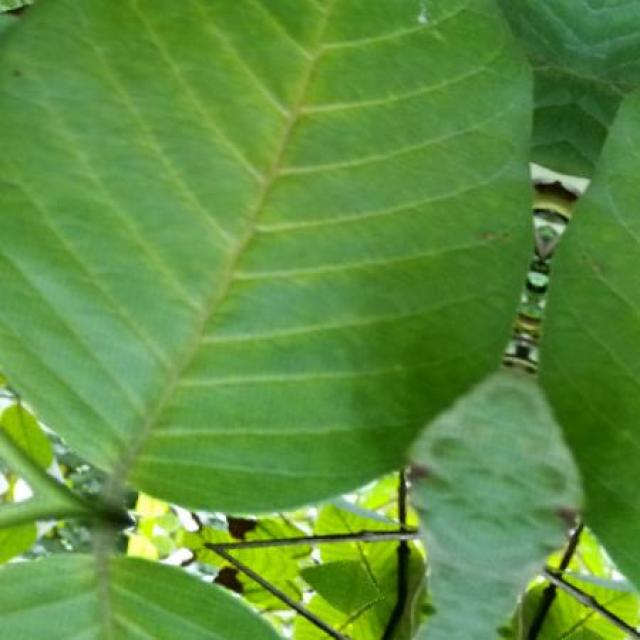Disease Free: (0, 0, 532, 511), (507, 2, 640, 577), (2, 521, 279, 640)
